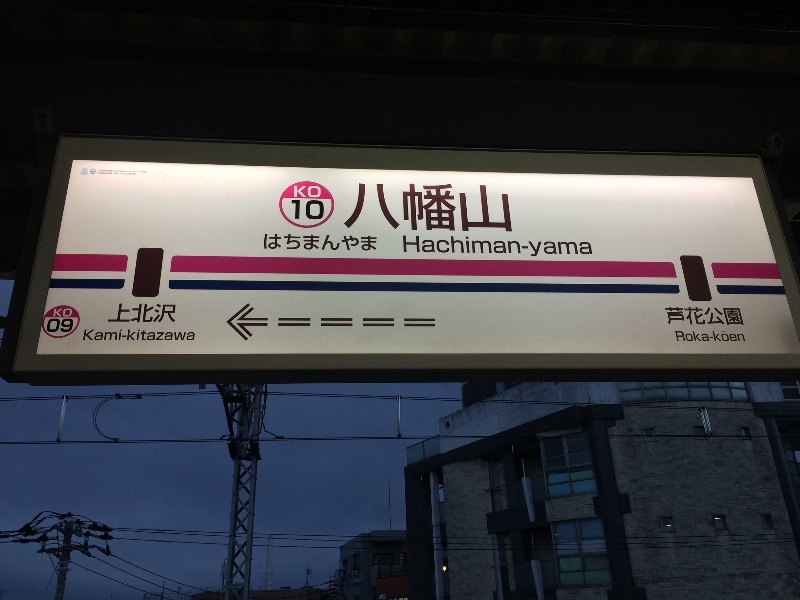text: (369, 181, 384, 238), (385, 181, 400, 238), (401, 181, 416, 238), (417, 181, 432, 238), (433, 181, 448, 238), (449, 181, 464, 238), (465, 181, 480, 238), (481, 181, 496, 238), (497, 181, 512, 238), (355, 181, 368, 238), (417, 235, 432, 259), (433, 235, 448, 259), (449, 235, 464, 259), (465, 235, 480, 259), (481, 235, 496, 259), (497, 235, 512, 259), (513, 235, 528, 259), (529, 235, 544, 259), (545, 235, 560, 259), (561, 235, 576, 259), (577, 235, 592, 259), (305, 198, 320, 221), (402, 235, 416, 259), (129, 303, 144, 323), (145, 303, 160, 323), (161, 303, 176, 323), (513, 181, 518, 238), (292, 198, 304, 221), (673, 308, 688, 326), (689, 308, 704, 326), (705, 308, 720, 326), (721, 308, 736, 326), (305, 183, 320, 200), (273, 234, 288, 251), (289, 234, 304, 251), (305, 234, 320, 251), (321, 234, 336, 251), (337, 234, 352, 251), (353, 234, 368, 251), (49, 318, 64, 333), (118, 303, 128, 323), (293, 183, 304, 200), (689, 331, 704, 343), (705, 331, 720, 343), (721, 331, 736, 343), (97, 330, 112, 341), (113, 330, 128, 341), (129, 330, 144, 341), (145, 330, 160, 341), (161, 330, 176, 341), (177, 330, 192, 341), (675, 331, 688, 343), (321, 198, 327, 221), (369, 234, 377, 251), (737, 308, 744, 326), (85, 330, 96, 341), (65, 318, 73, 333), (265, 234, 272, 251), (666, 308, 672, 326), (737, 331, 746, 343), (593, 235, 596, 259), (55, 309, 64, 317), (65, 309, 73, 317), (193, 330, 195, 341), (321, 183, 322, 200)
